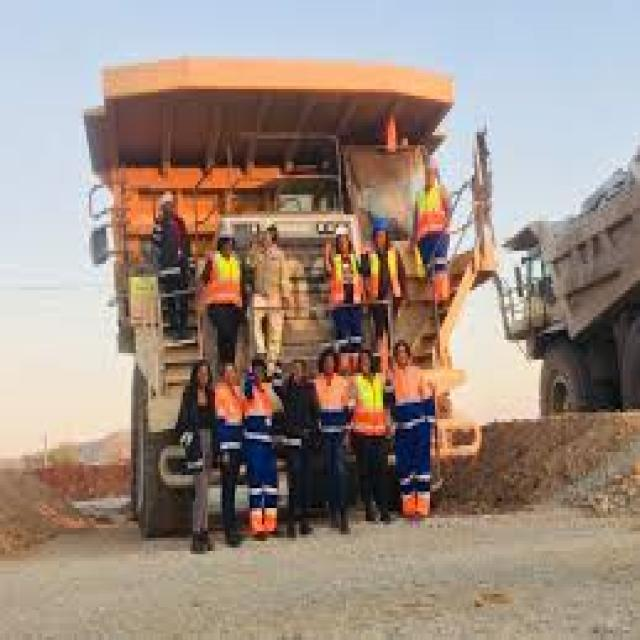dump_truck: (52, 43, 531, 554)
